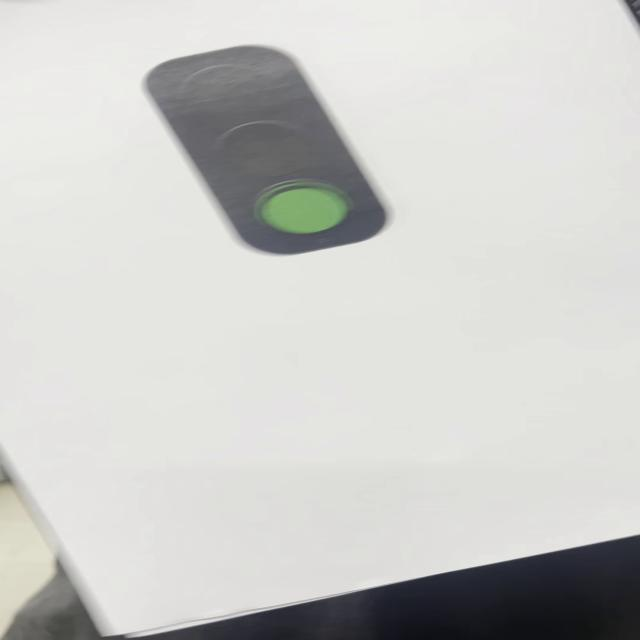green: (139, 45, 395, 258)
